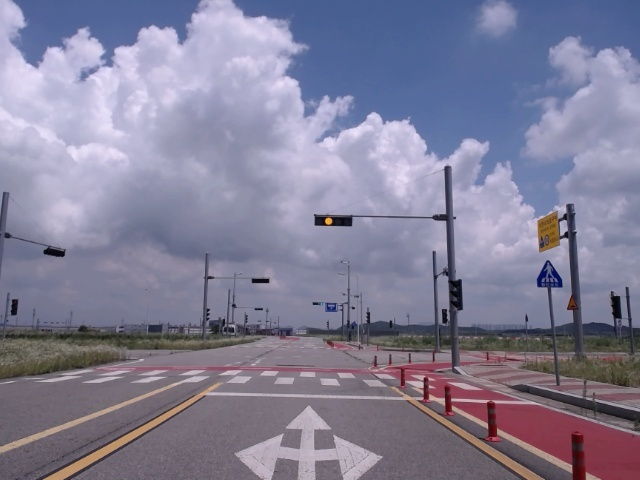orange_4: (314, 215, 351, 227)
